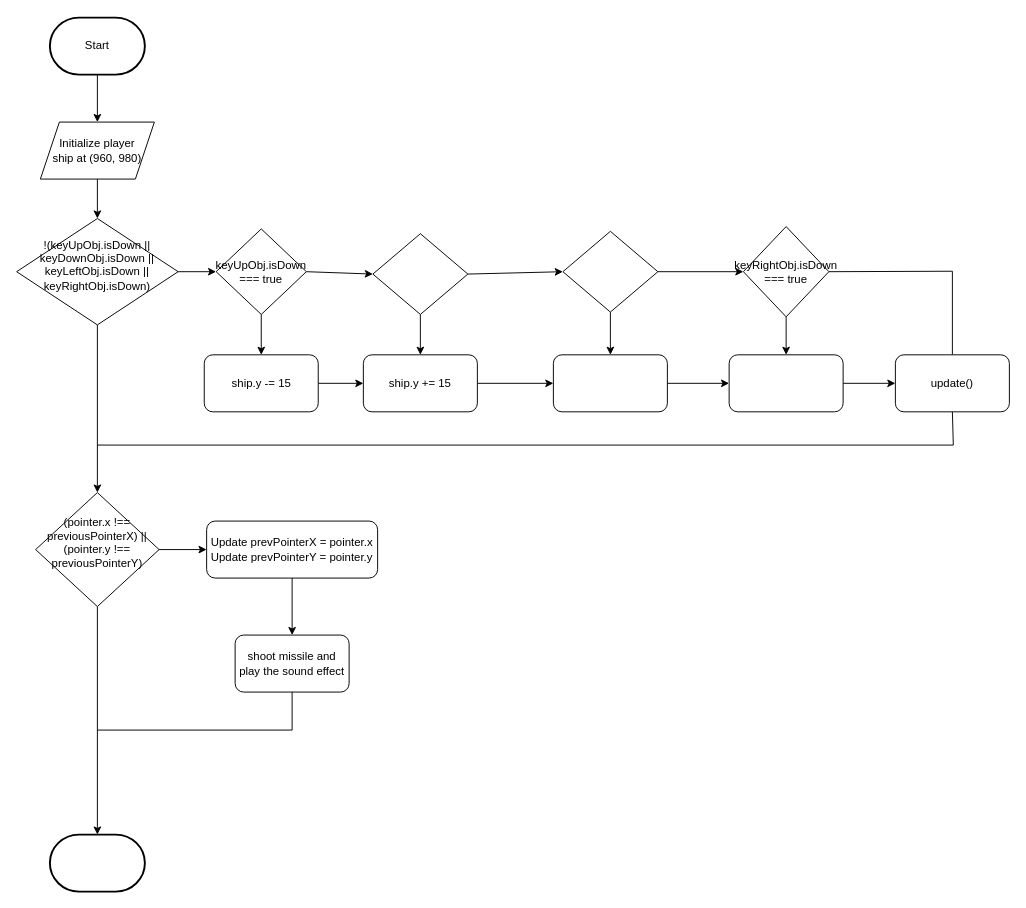
The diagram is 1026 pixels wide and 908 high, and some of its shapes have lost their labels. Each missing label, with the box of its shape:
keyDownObj.isDown === true: (372, 233, 468, 314)
keyLeftObj.isDown === true: (562, 230, 658, 312)
ship.x += 15: (728, 354, 843, 412)
ship.x -= 15: (552, 354, 667, 412)
Stop: (48, 833, 145, 892)
